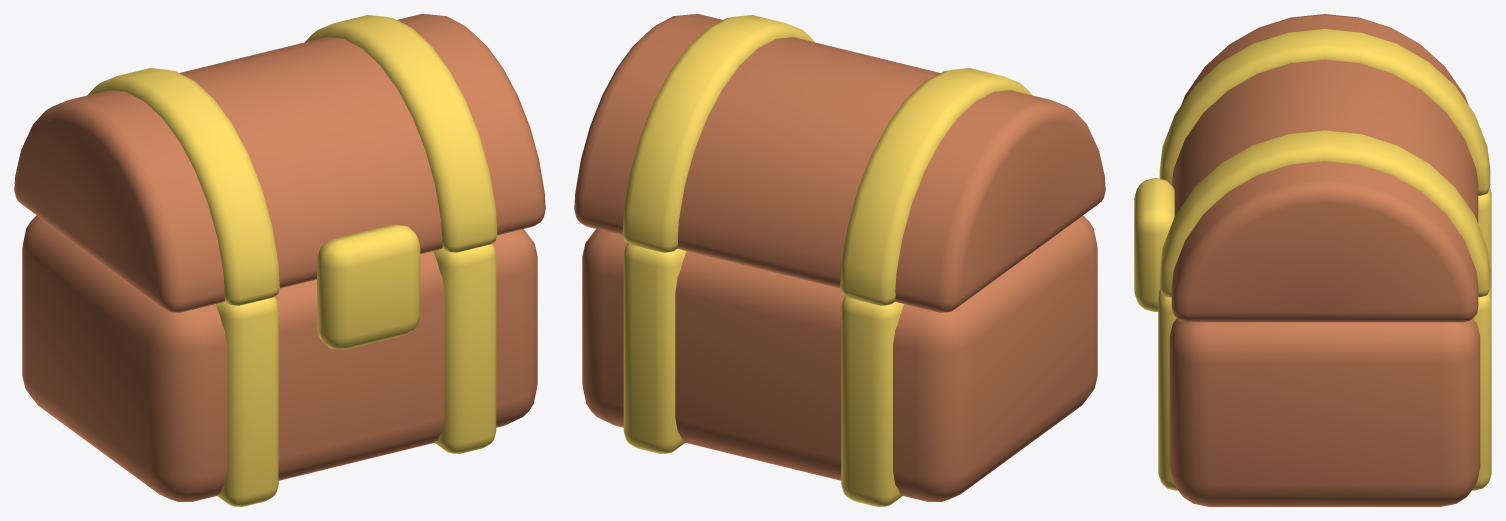
Rendered from toy_chest_palette.glb.
3 renders of one model, left to right at view 1: azimuth 30°, elevation 25°; view 2: azimuth 150°, elevation 25°; view 3: azimuth 270°, elevation 25°, orthographic. The views are drawn at different scales.
Parts seen in each view (by area): view 1: Toy_Chest; view 2: Toy_Chest; view 3: Toy_Chest.
Boxes of the visible parts, bbox=[...] form: Toy_Chest: bbox=[14, 14, 545, 506]; Toy_Chest: bbox=[574, 14, 1105, 506]; Toy_Chest: bbox=[1134, 14, 1491, 506].
Bounding box in the file's own units: 3 × 2.7 × 2.53.
Materials: 1 (1 with a texture image).
